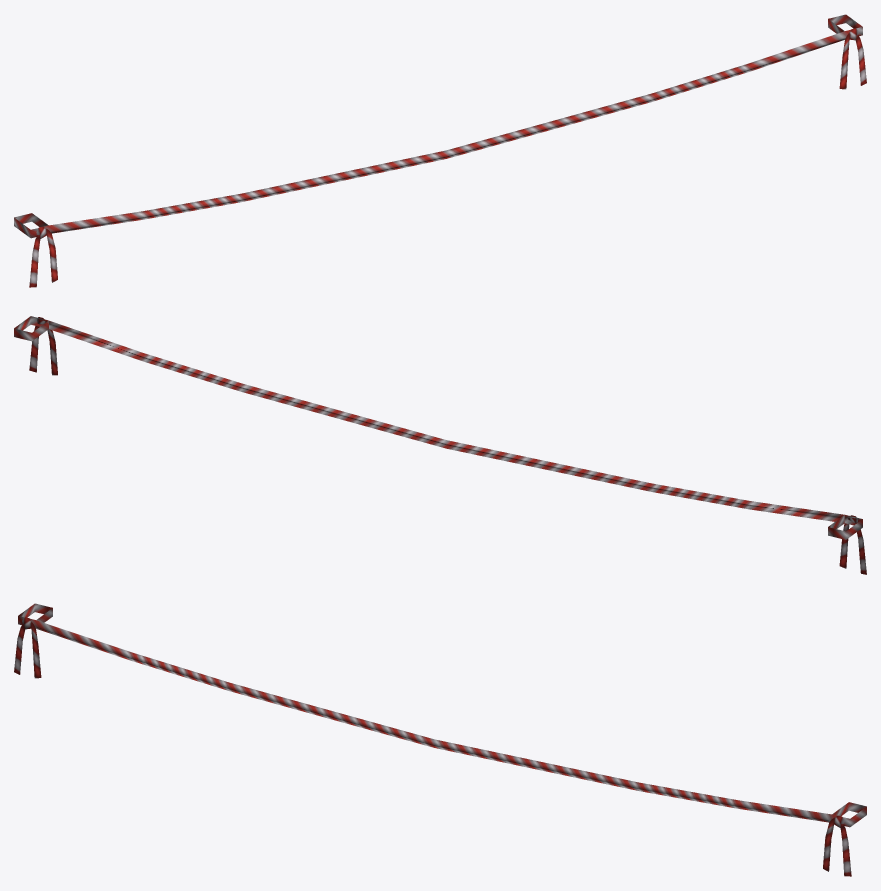
The model's file is jsf_2P_String_s01_01.fbx.
3 views of the same model, one above another, from view 1: azimuth 30°, elevation 25°; view 2: azimuth 150°, elevation 25°; view 3: azimuth 330°, elevation 25° (orthographic).
Parts seen in each view (by area): view 1: jsf_2P_String_s01_01; view 2: jsf_2P_String_s01_01; view 3: jsf_2P_String_s01_01.
Part boxes in pixels (x1=…): jsf_2P_String_s01_01: x1=14, y1=14, x2=866, y2=287; jsf_2P_String_s01_01: x1=14, y1=316, x2=866, y2=574; jsf_2P_String_s01_01: x1=14, y1=603, x2=866, y2=876.
Bounding box in the file's own units: 149 × 9.85 × 5.92.
